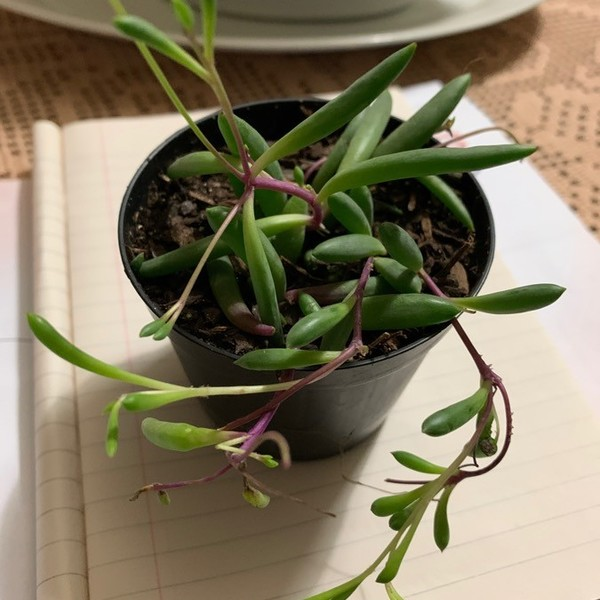obstacle: (53, 6, 540, 531)
